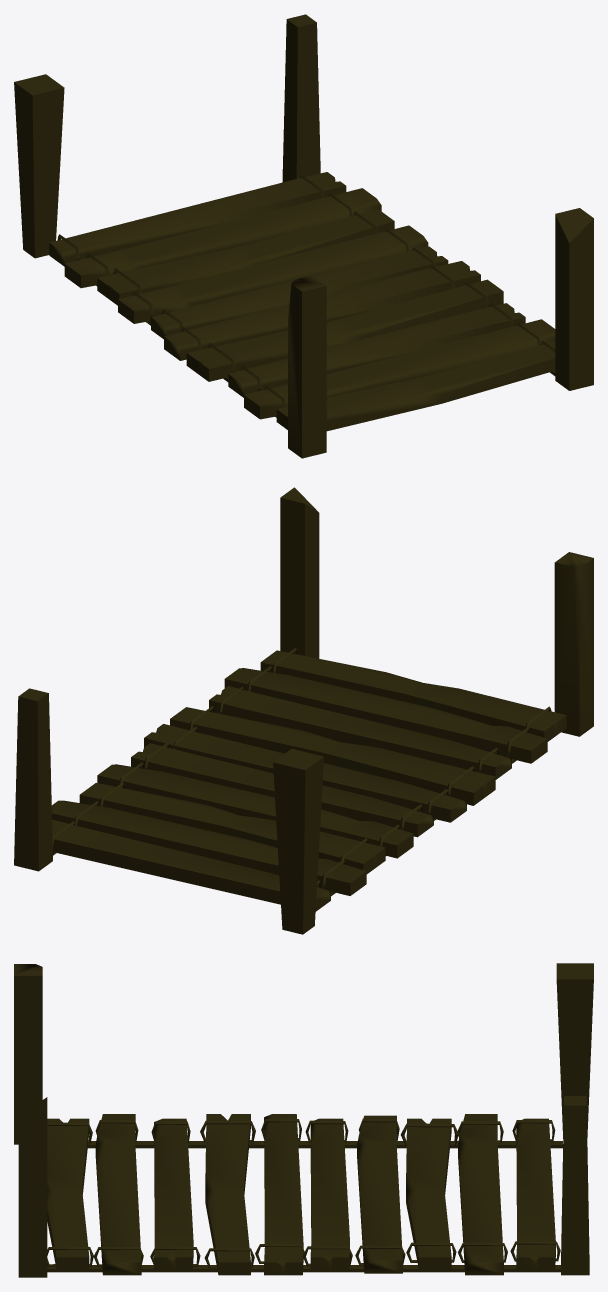
Rendered from prop_bridge.glb.
3 views of the same model, one above another, from view 1: azimuth 30°, elevation 25°; view 2: azimuth 150°, elevation 25°; view 3: azimuth 270°, elevation 25° (orthographic).
Visible parts, largest first — view 1: prop_bridge; view 2: prop_bridge; view 3: prop_bridge.
Boxes of the visible parts, <box> form: prop_bridge: <box>14,14,593,458</box>; prop_bridge: <box>14,487,593,934</box>; prop_bridge: <box>14,963,593,1277</box>.
Size of the model in its own units: 4.41 by 2.32 by 7.22.
